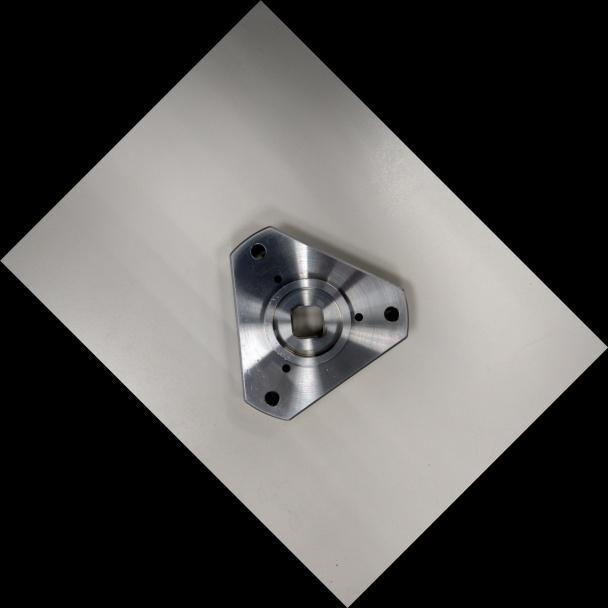hole: (376, 300, 405, 328), (257, 384, 285, 412), (243, 237, 271, 265), (268, 270, 286, 288), (350, 309, 366, 325), (277, 360, 293, 376)
